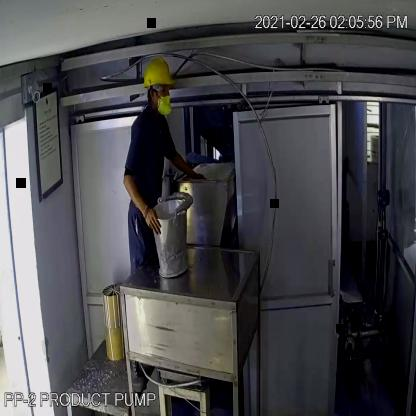helmet: (140, 54, 178, 94)
